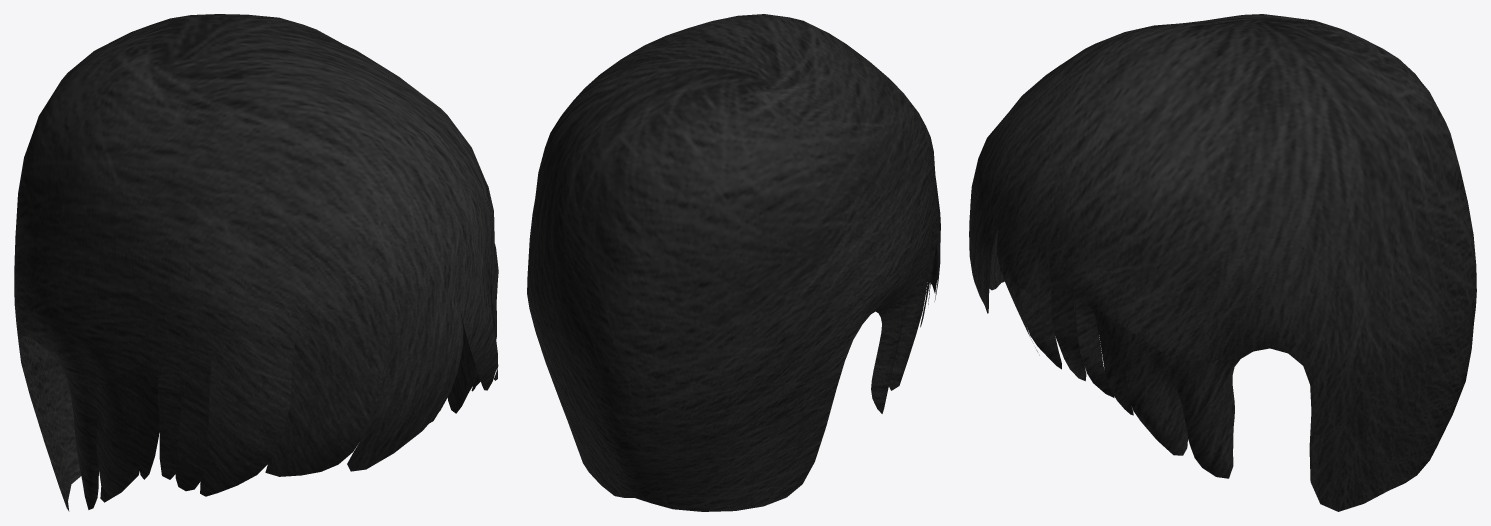
Rendered from Kami05.fbx.
The picture shows the model from 3 angles, left to right: view 1: azimuth 30°, elevation 25°; view 2: azimuth 150°, elevation 25°; view 3: azimuth 270°, elevation 25°; orthographic projection. The views are drawn at different scales.
Visible parts, largest first — view 1: Kami05; view 2: Kami05; view 3: Kami05.
Part boxes in pixels (box(x1,y1,x2,y2)): Kami05: box(14, 14, 498, 511); Kami05: box(527, 14, 940, 511); Kami05: box(969, 14, 1476, 511).
Bounding box in the file's own units: 16.49 × 18.59 × 20.12.
